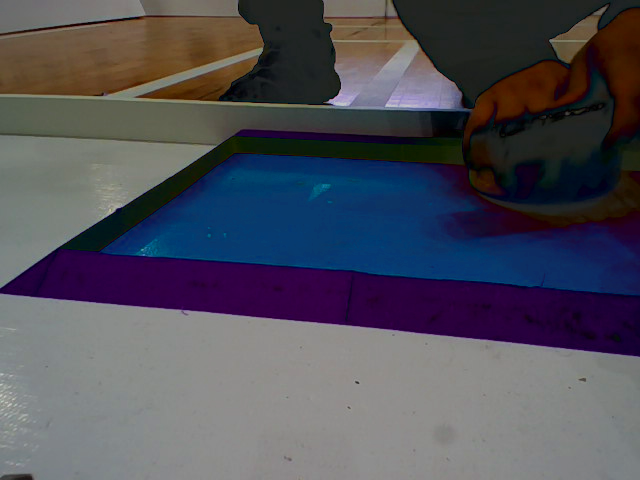kuang: (5, 119, 640, 353)
